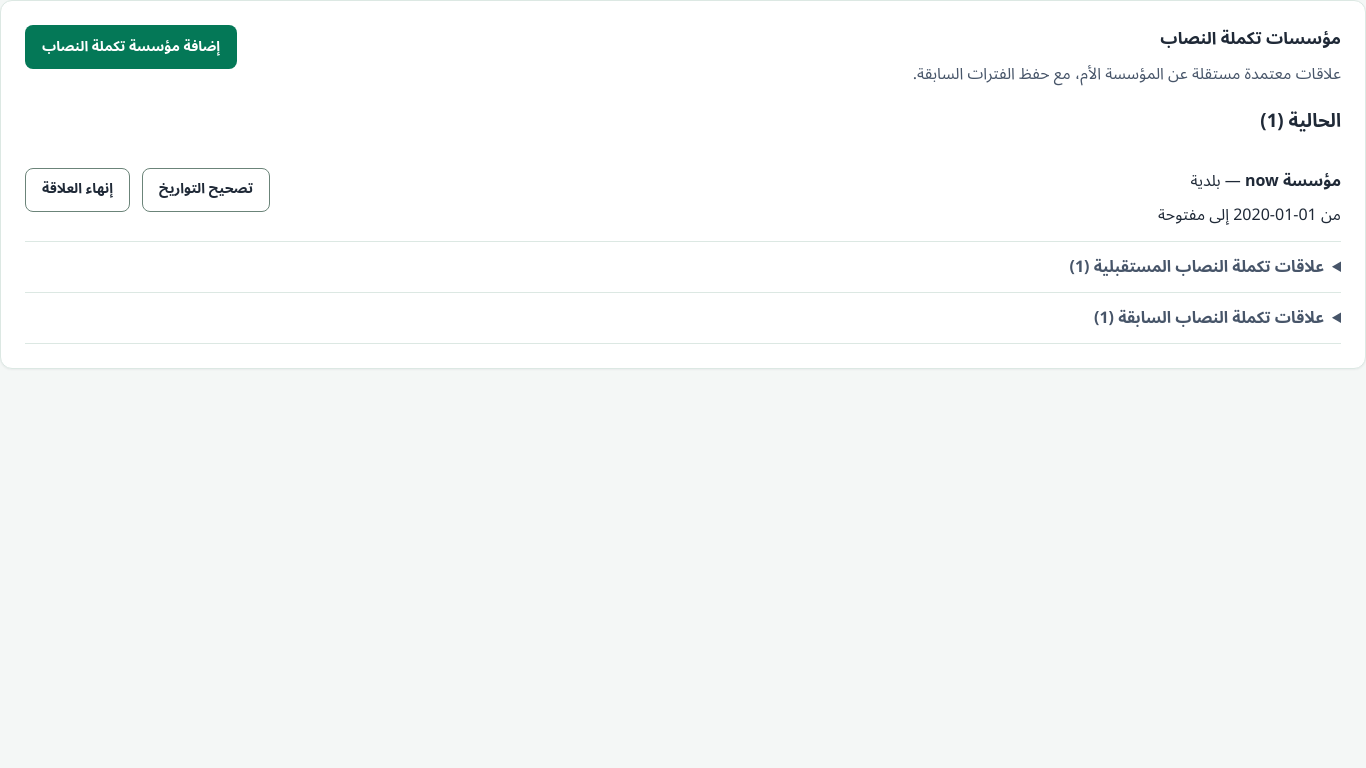
Test: TASK-082 supplementary workplaces profile section › groups current, future and historical relationships and offers no delete control
Check: the text "مؤسسة now" is shown, box 1245,164 -> 1341,198
Check: the heading "الحالية (1)" is shown, box 1260,101 -> 1341,141
Click the heading "علاقات تكملة النصاب المستقبلية (1)": (1197, 266) 1070,250 -> 1324,284
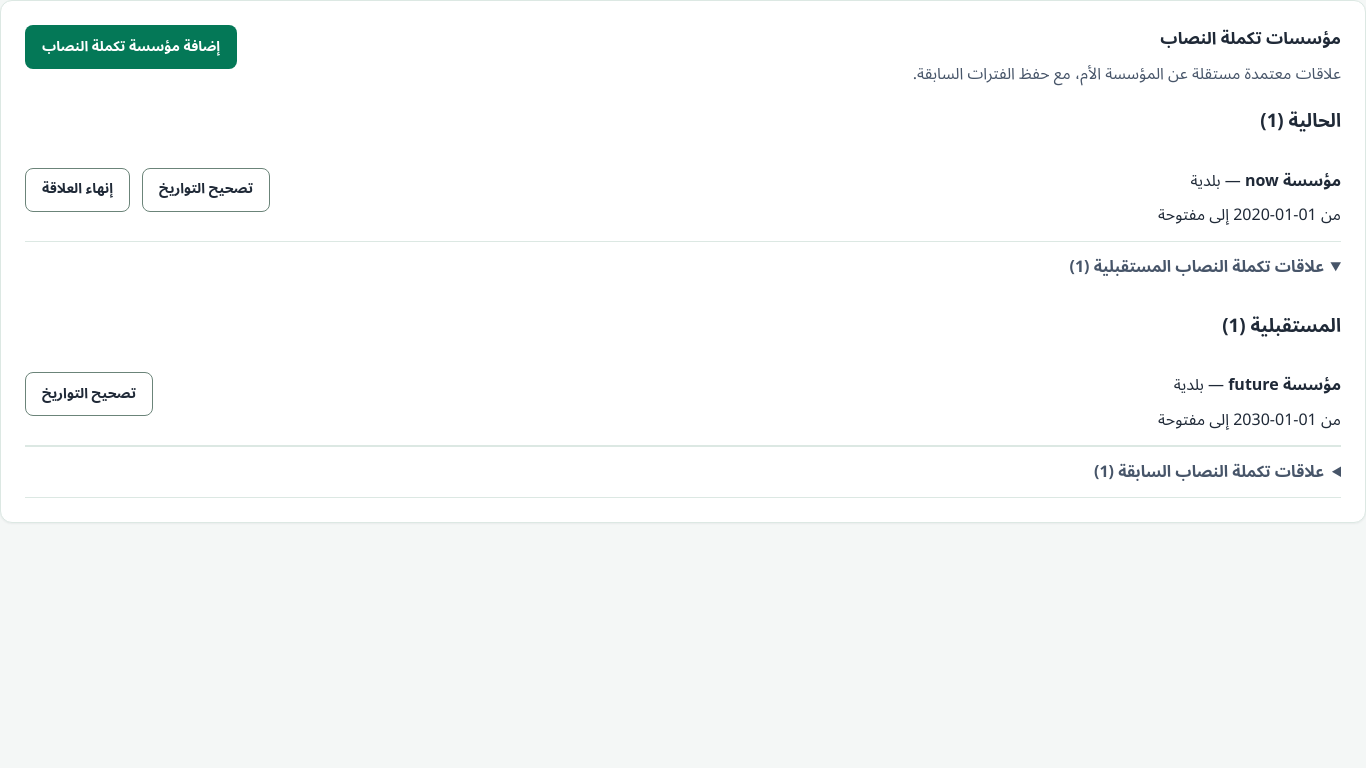
Click the heading "علاقات تكملة النصاب السابقة (1)": (1209, 472) 1094,455 -> 1324,489
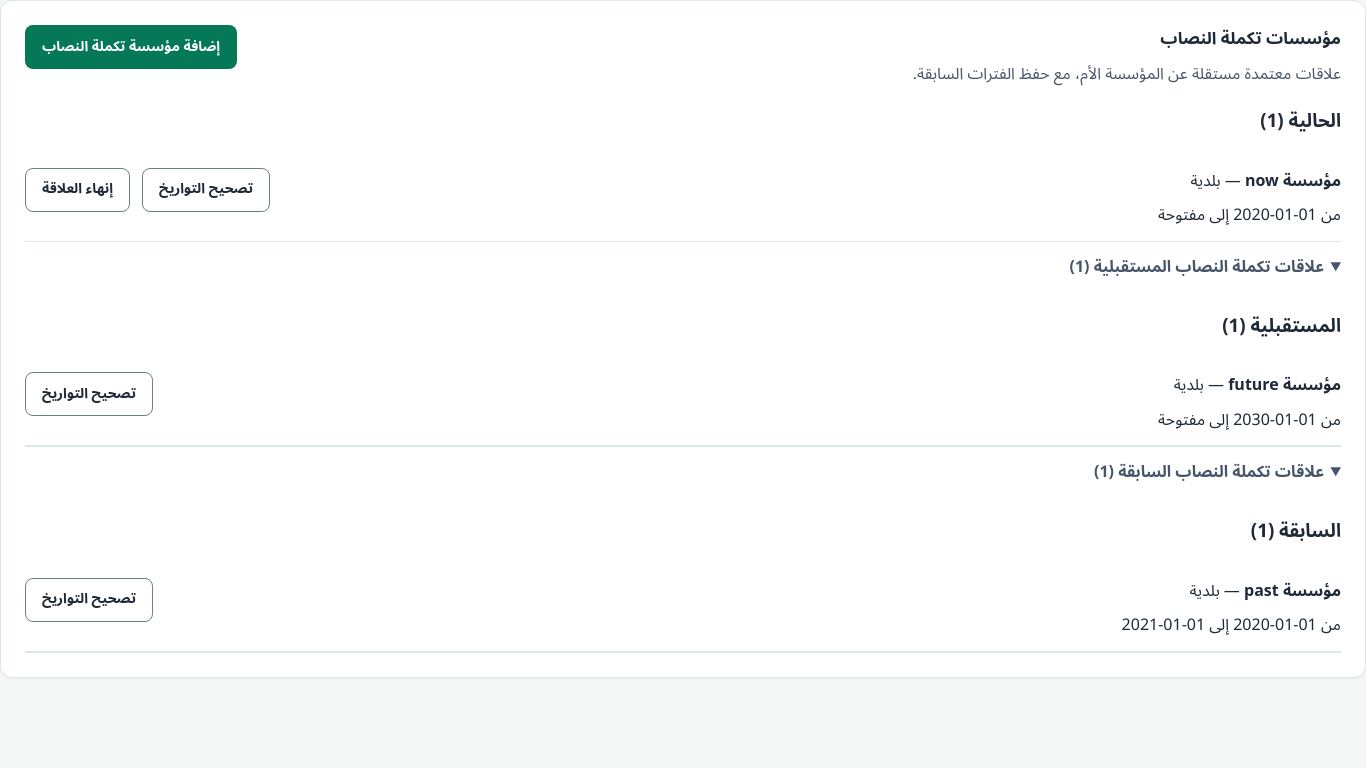
Check: the heading "المستقبلية (1)" is shown, box 1222,306 -> 1341,346
Check: the heading "السابقة (1)" is shown, box 1251,511 -> 1341,551
